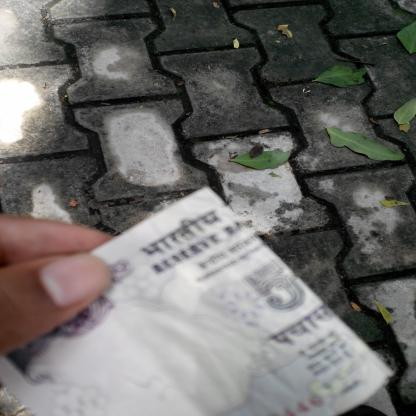Old50Front: (0, 186, 397, 416)
